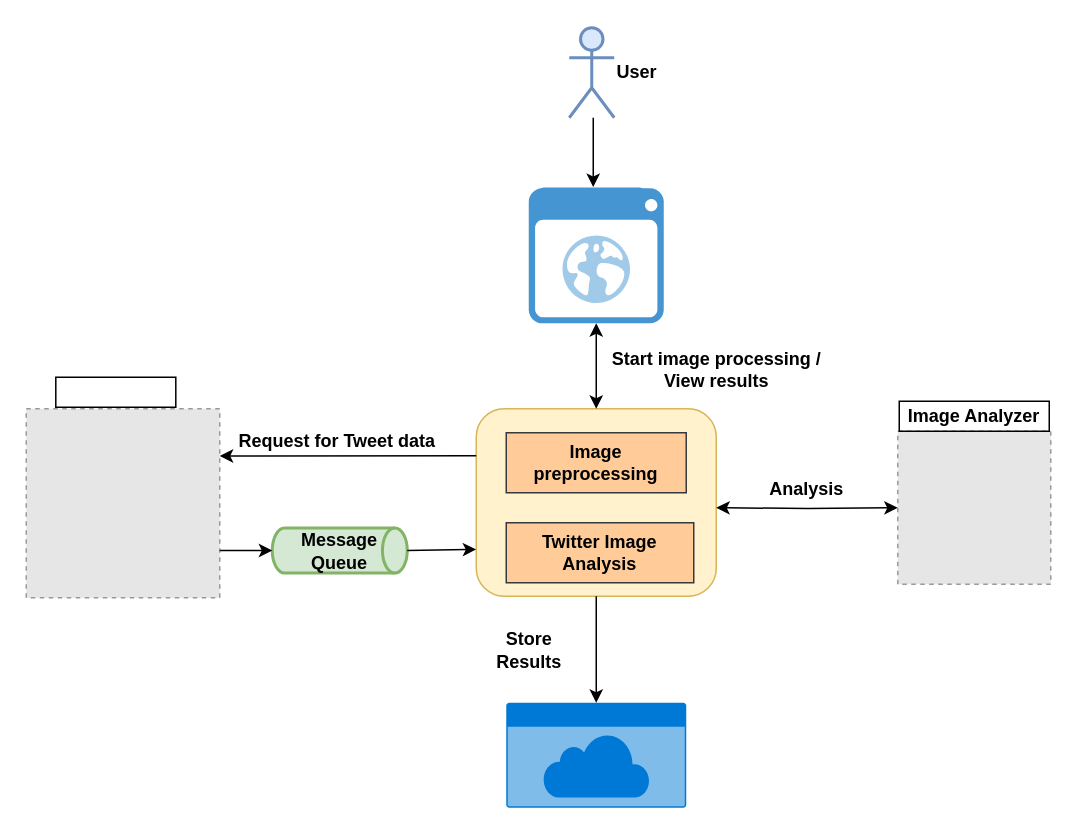
Some shapes in this 1077 by 833 pixel diagram are drawn without their labels. Grey dashed boxes stand in for pictures. The centre of each missing label's shape, as x and y in pixels:
Cloud Storage: pixel 596 754
Twitter API: pixel 115 391
Web App: pixel 591 202
